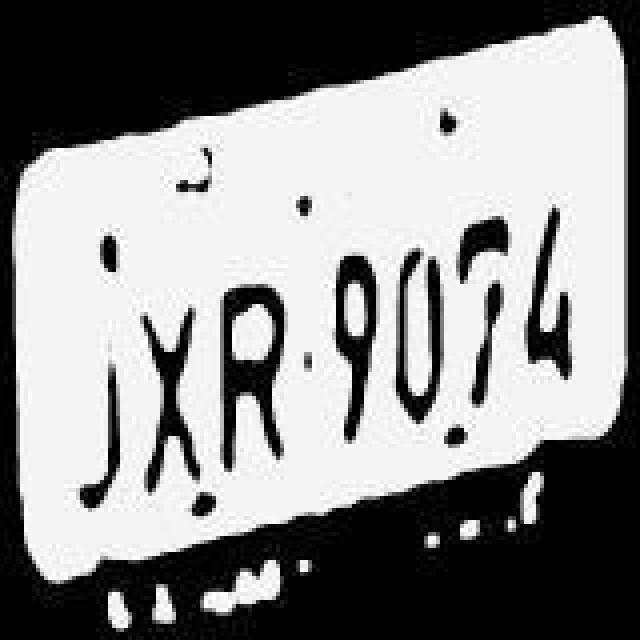4: (514, 208, 574, 440)
7: (448, 204, 512, 444)
9: (314, 246, 382, 474)
J: (62, 320, 130, 528)
O: (384, 232, 448, 456)
R: (214, 272, 298, 504)
X: (134, 288, 210, 512)
